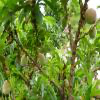Peach leaf: (44, 0, 59, 19), (35, 7, 43, 29), (86, 69, 93, 90), (73, 87, 84, 99), (85, 85, 93, 99), (40, 80, 45, 99), (69, 93, 81, 99), (38, 32, 54, 36)
